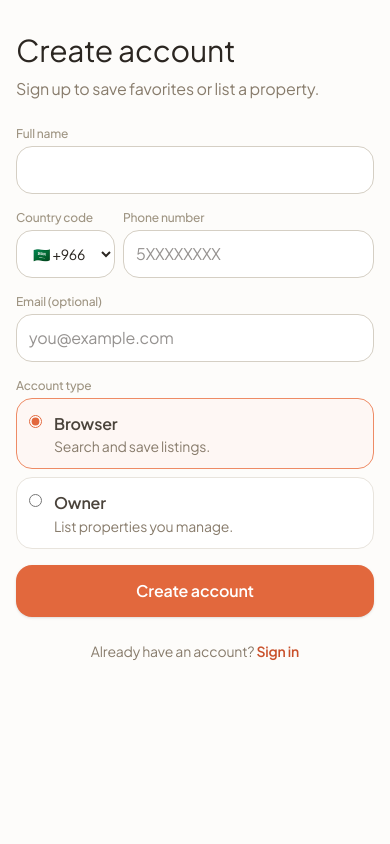
RegisterPage — edge cases (T-053) › shows error when phone is empty
Type "Amal" into the field labelled "Full name".
click(195, 170); type("Amal")  # box x1=16 y1=146 x2=374 y2=194
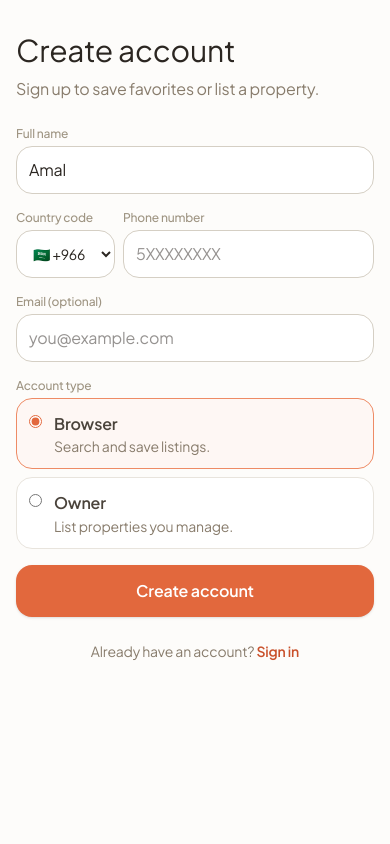
Click the button "Create account".
click(195, 591)  # box x1=16 y1=565 x2=374 y2=617
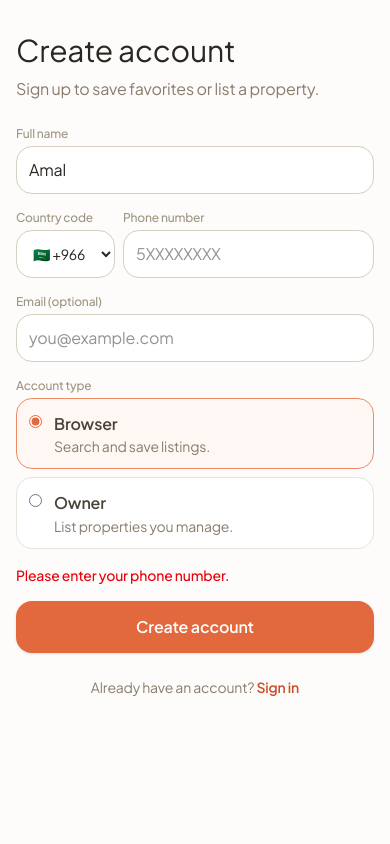
Expected: the message shows "phone", x1=16 y1=566 x2=229 y2=584
